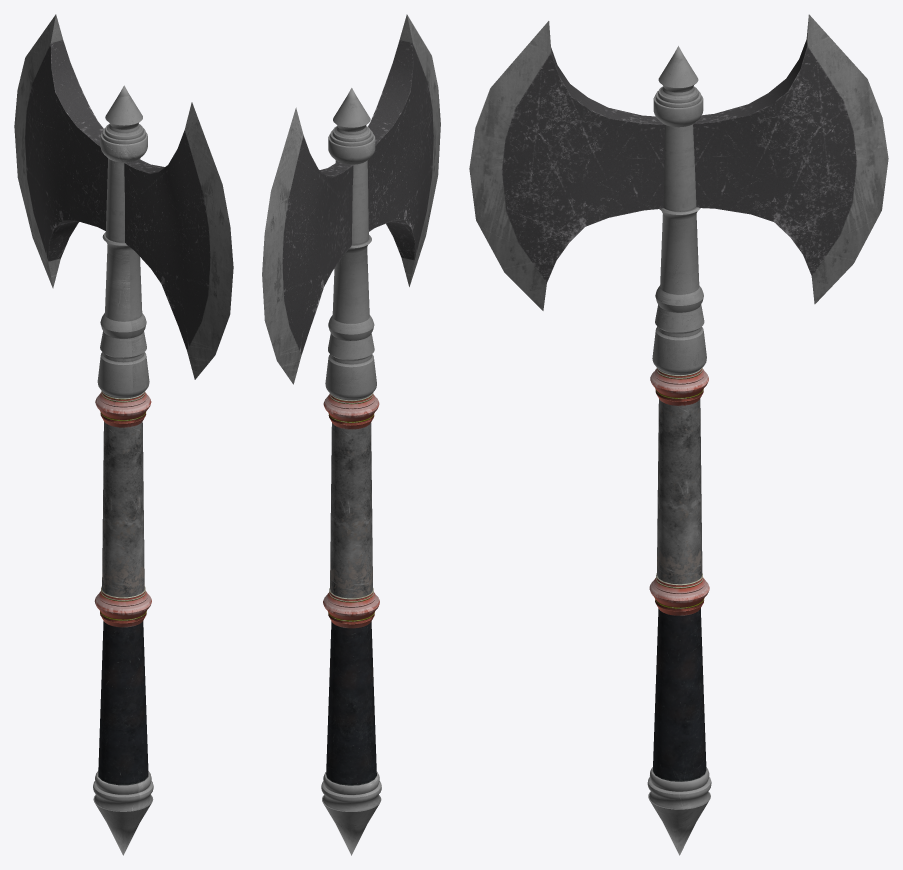
Rendered from axe.fbx.
3 views of the same model, side by side, from view 1: azimuth 30°, elevation 25°; view 2: azimuth 150°, elevation 25°; view 3: azimuth 270°, elevation 25° (orthographic). The views are drawn at different scales.
Parts seen in each view (by area): view 1: Axe_Axe_0.003, Axe_Axe_0.002, Axe_Axe_0.004; view 2: Axe_Axe_0.003, Axe_Axe_0.002, Axe_Axe_0.004; view 3: Axe_Axe_0.002, Axe_Axe_0.003, Axe_Axe_0.004.
Part boxes in pixels (x1,y1,x2,y2): Axe_Axe_0.003: (93, 85, 153, 855); Axe_Axe_0.002: (25, 40, 210, 350); Axe_Axe_0.004: (14, 14, 233, 379); Axe_Axe_0.003: (321, 88, 381, 855); Axe_Axe_0.002: (282, 40, 433, 354); Axe_Axe_0.004: (262, 14, 440, 384); Axe_Axe_0.002: (502, 39, 856, 282); Axe_Axe_0.003: (647, 46, 711, 855); Axe_Axe_0.004: (469, 14, 888, 310).
Size of the model in its own units: 7.62 by 110 by 49.95.
